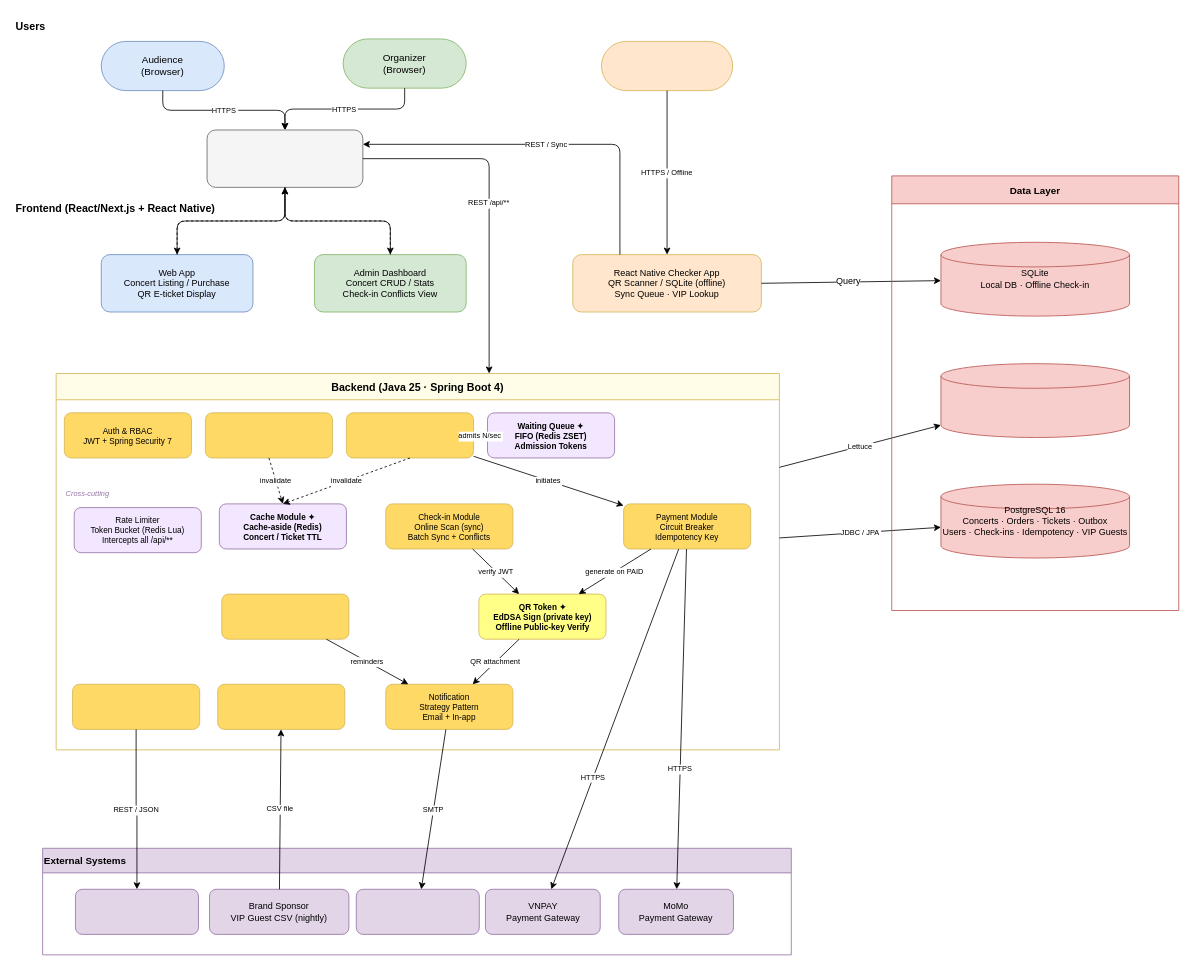
This 1193x969 diagram has some shape labels left out. Here are the shapes that lost their labels. From the top down, the centre of each, then its label:
pixel 667 66: Checker Staff (Mobile App)
pixel 284 158: Nginx Reverse Proxy (TLS termination)
pixel 1035 400: Redis 7 Cache-aside · Rate Limiting Waiting Queue · Idempotency · Pub/Sub
pixel 269 435: Concert Module CRUD + SVG Seat Map
pixel 410 435: Ticket Purchase Atomic Conditional UPDATE Redis Limit Counter
pixel 285 616: Background Scheduler Order Expiry 24h Reminders
pixel 136 706: AI Bio Module PDFBox + Gemini API @Async
pixel 281 706: CSV Import Job @Scheduled 02:00 Idempotent Upsert
pixel 136 911: Google Gemini API Artist Bio Generation
pixel 417 911: Email SMTP Transactional Email
